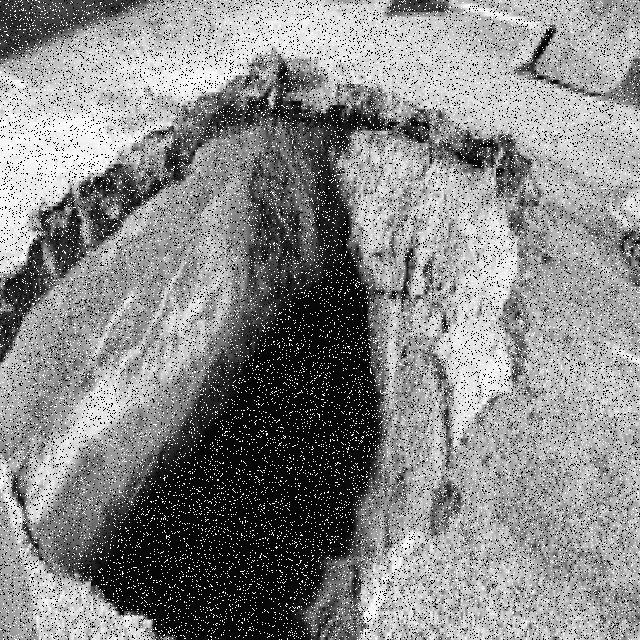pothole: (0, 50, 527, 640)
